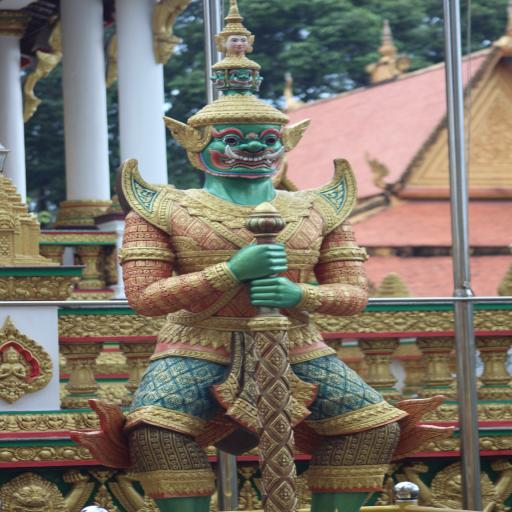hoa: (62, 315, 114, 336), (475, 310, 512, 330), (418, 311, 452, 332), (352, 312, 386, 331), (316, 314, 351, 332), (388, 312, 422, 330), (112, 315, 140, 335), (14, 446, 41, 461), (491, 435, 512, 450), (76, 443, 94, 460), (436, 438, 458, 450)
la: (16, 413, 42, 432), (45, 414, 69, 432), (79, 412, 100, 432), (481, 404, 506, 420), (440, 406, 457, 420), (0, 413, 10, 434)
than: (115, 94, 399, 512), (211, 20, 264, 93), (0, 348, 29, 392)
